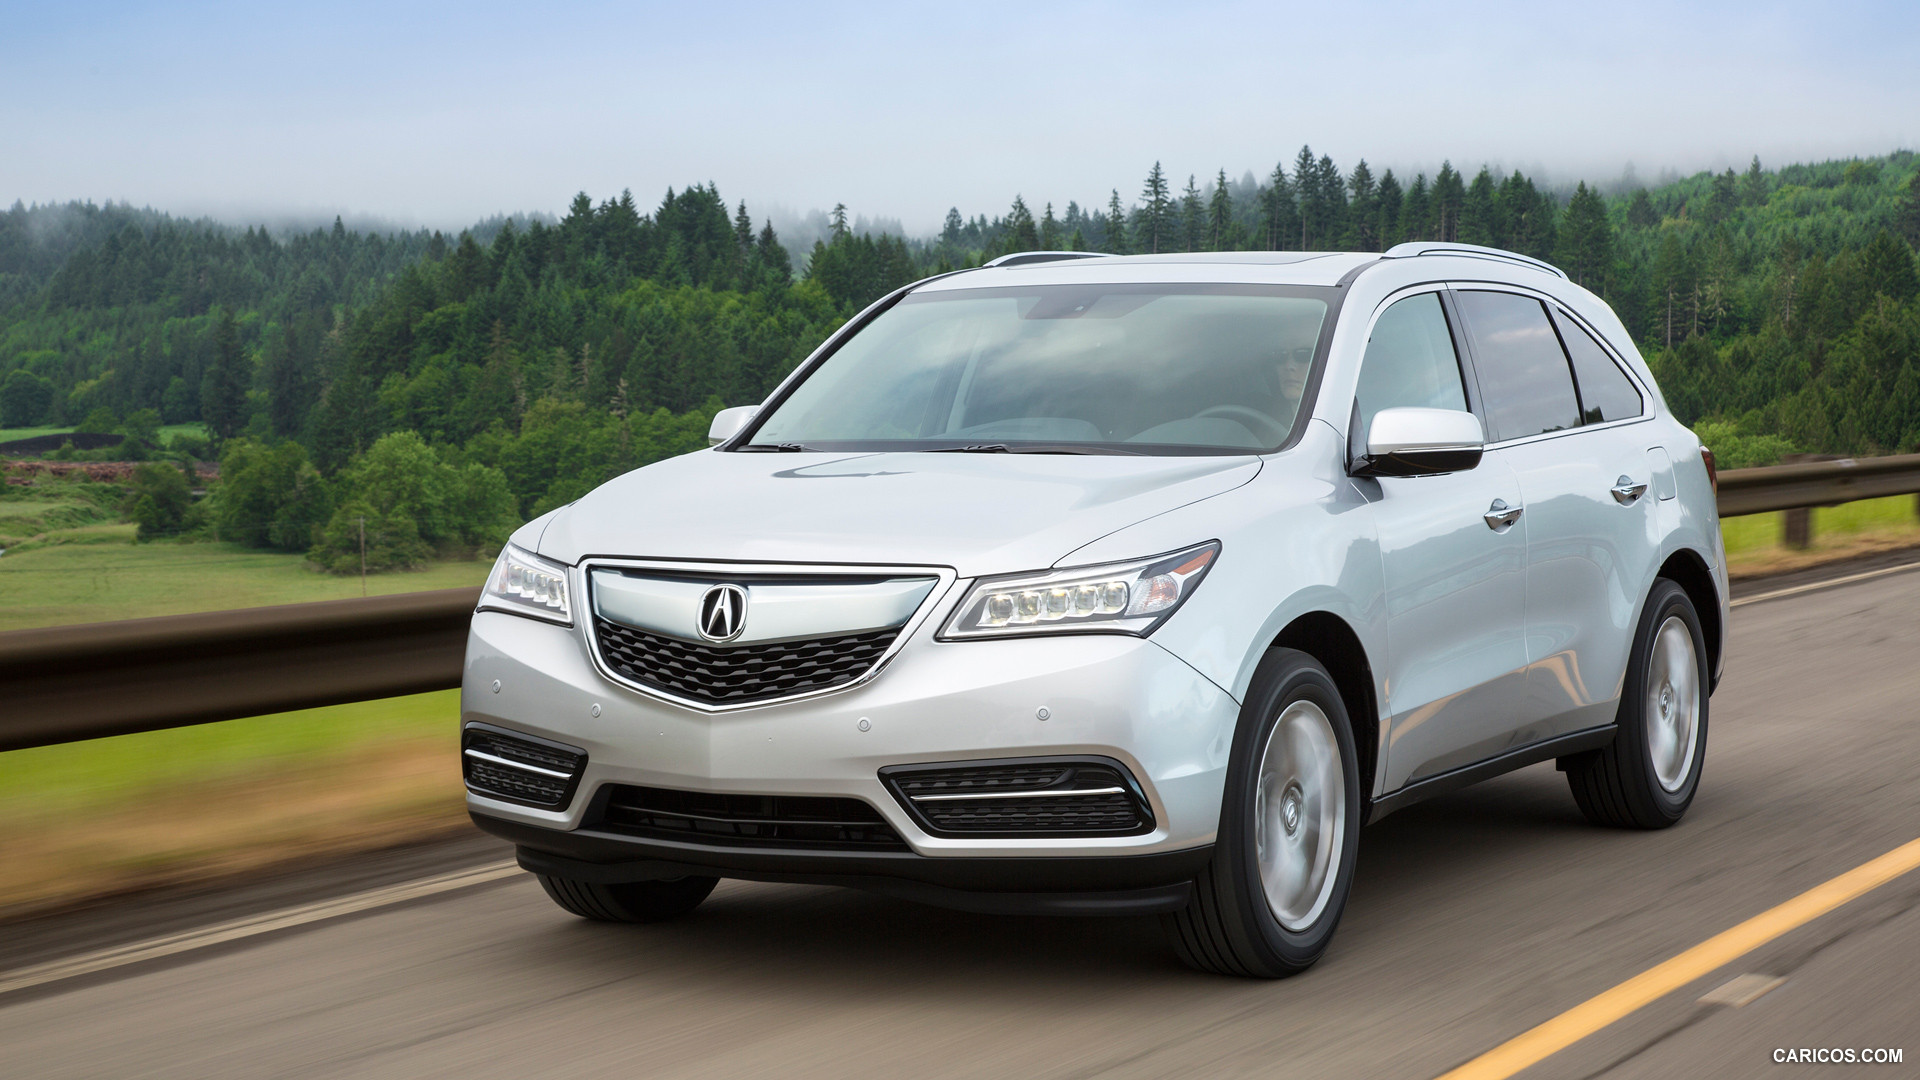Fog Lamp & Scope: (905, 756, 1155, 837)
Front: (460, 462, 1305, 866)
Front Bumper: (459, 702, 1226, 860)
Grill: (582, 568, 961, 703)
Headlight: (945, 543, 1220, 650)
